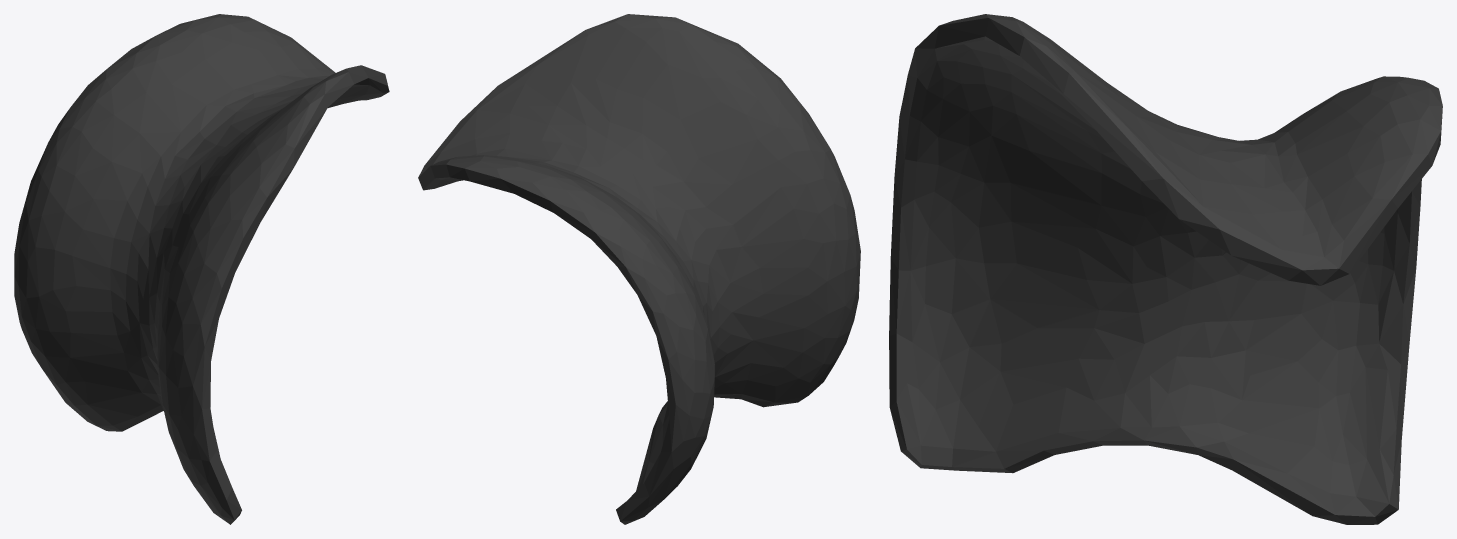
File: Talus_trochlea.glb
3 views of the same model, side by side, from view 1: azimuth 30°, elevation 25°; view 2: azimuth 150°, elevation 25°; view 3: azimuth 270°, elevation 25° (orthographic). The views are drawn at different scales.
Visible parts, largest first — view 1: Talus_trochlea; view 2: Talus_trochlea; view 3: Talus_trochlea.
Part boxes in pixels (box(x1,y1,x2,y2)): Talus_trochlea: box(14, 14, 389, 524); Talus_trochlea: box(418, 14, 860, 524); Talus_trochlea: box(889, 14, 1442, 524).
Size of the model in its own units: 0.0238 by 0.0295 by 0.0258.
Materials: 1 (1 with a texture image).
